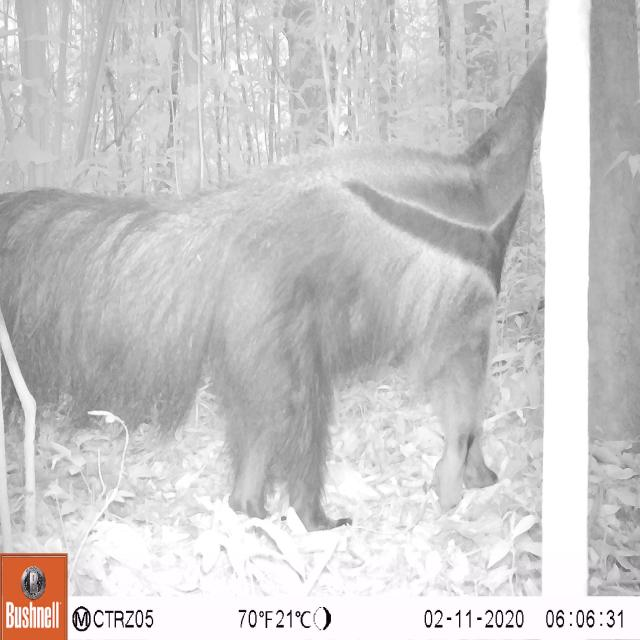Giant Anteater: (0, 49, 561, 531)
